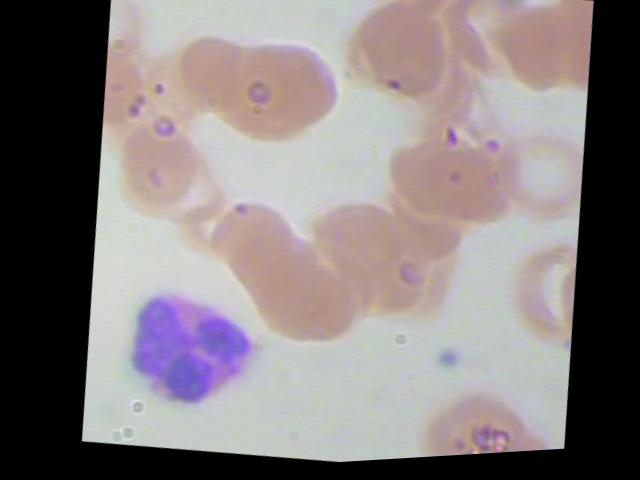Platelets: (422, 343, 465, 386)
Red Blood Cells: (325, 0, 453, 117), (298, 182, 417, 305), (100, 117, 221, 237), (230, 27, 348, 149), (171, 22, 289, 144), (376, 116, 496, 235), (481, 119, 588, 239), (484, 0, 591, 119), (400, 380, 530, 461), (302, 0, 408, 21)
White Blood Cells: (97, 262, 268, 452)
